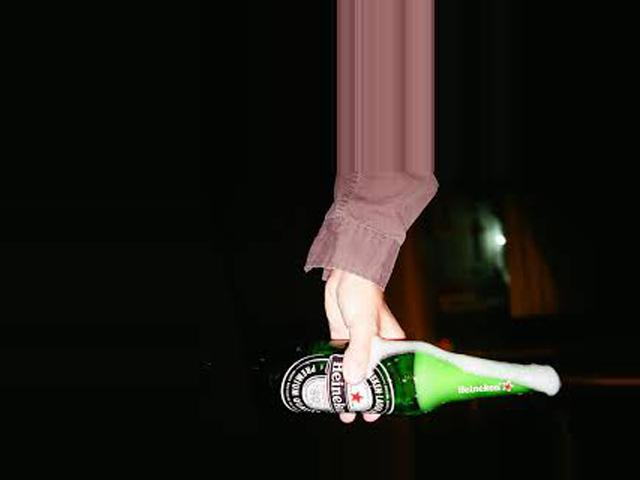beer: (272, 339, 546, 417)
